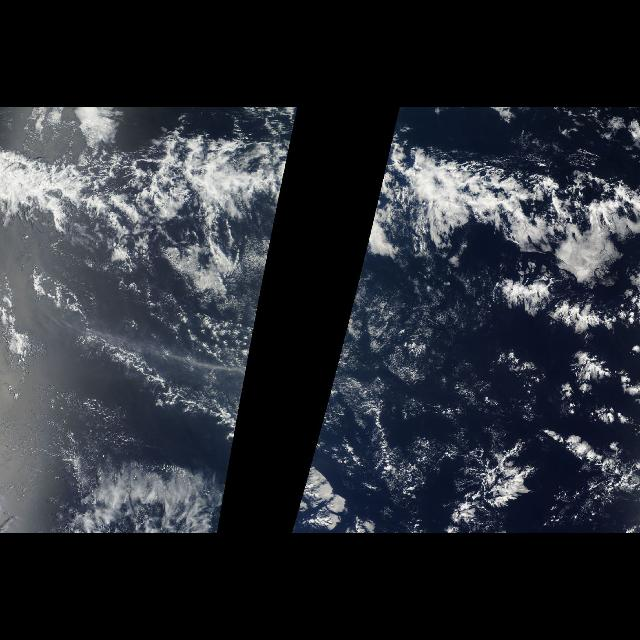Fish: (0, 121, 296, 281), (358, 121, 640, 281)
Flower: (454, 256, 640, 507)
Sugar: (354, 298, 482, 392)
